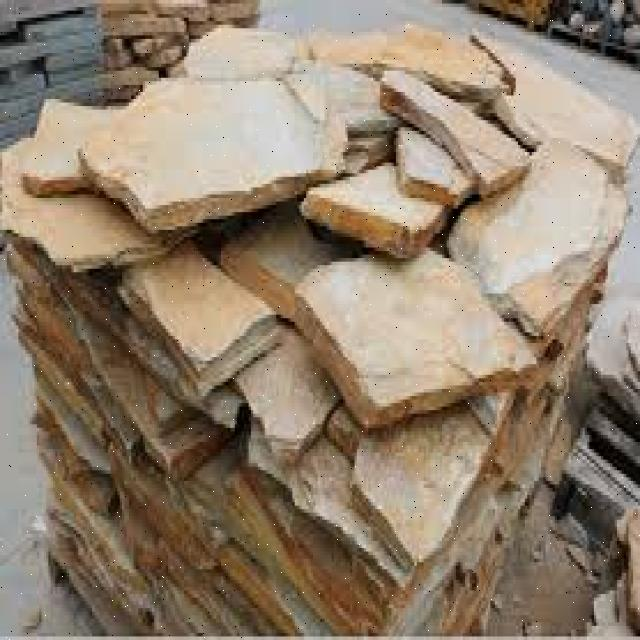Metamorphic: (2, 11, 606, 636)
